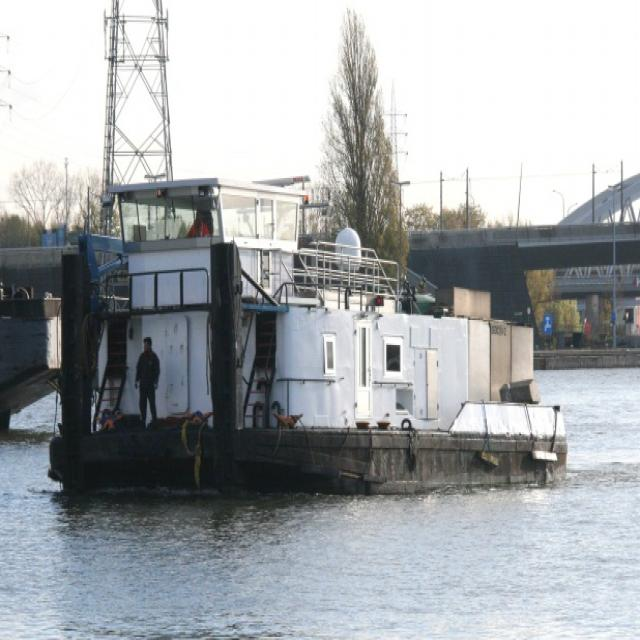tugboat: (43, 168, 572, 518)
